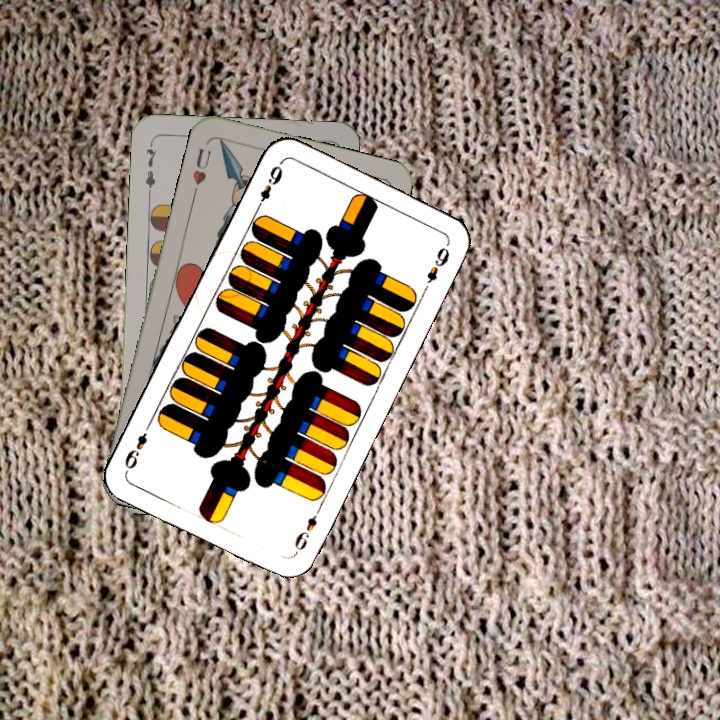E7: (141, 139, 160, 198)
E9: (251, 159, 286, 214), (290, 502, 324, 557)
HU: (188, 144, 214, 197)
